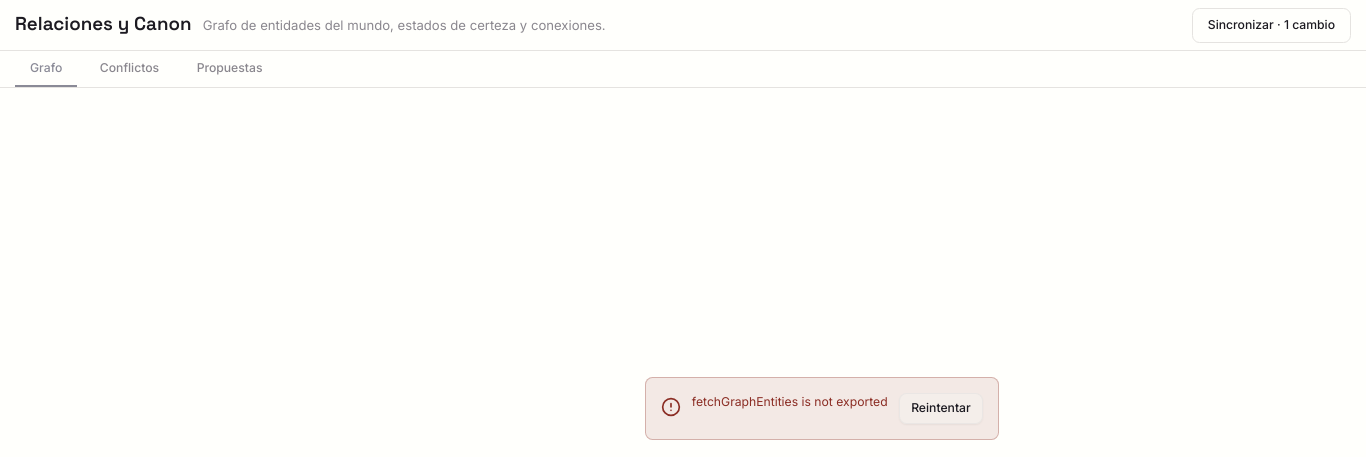
Scenario: RelacionesCanon › shows a Próximamente placeholder in the Conflictos tab
Click the tab "Conflictos".
click(129, 69)  # box [85,51,174,87]
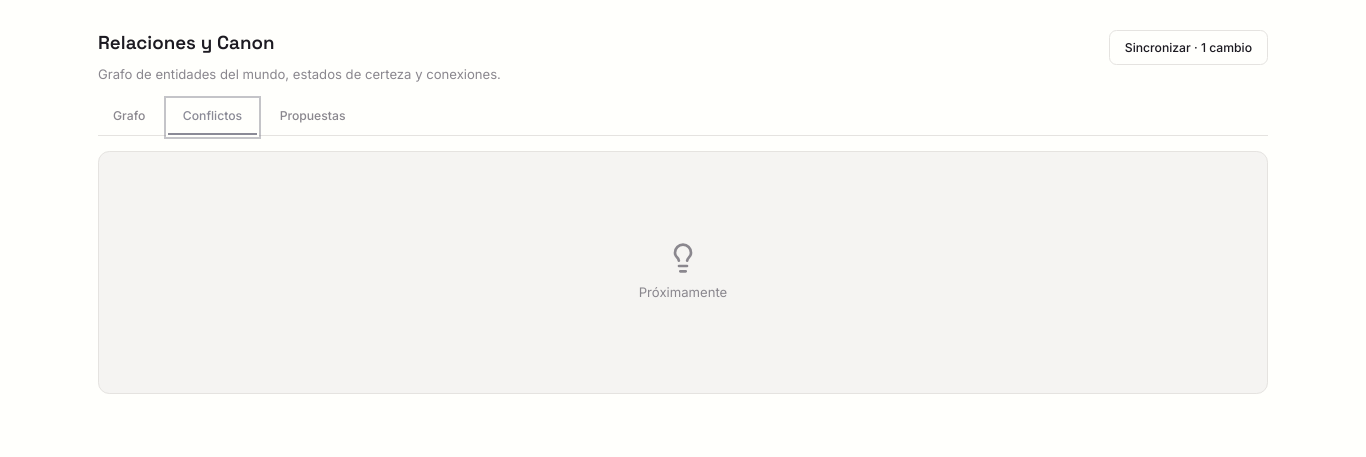
Expected: the text "Próximamente" is shown, [639,282,727,302]
